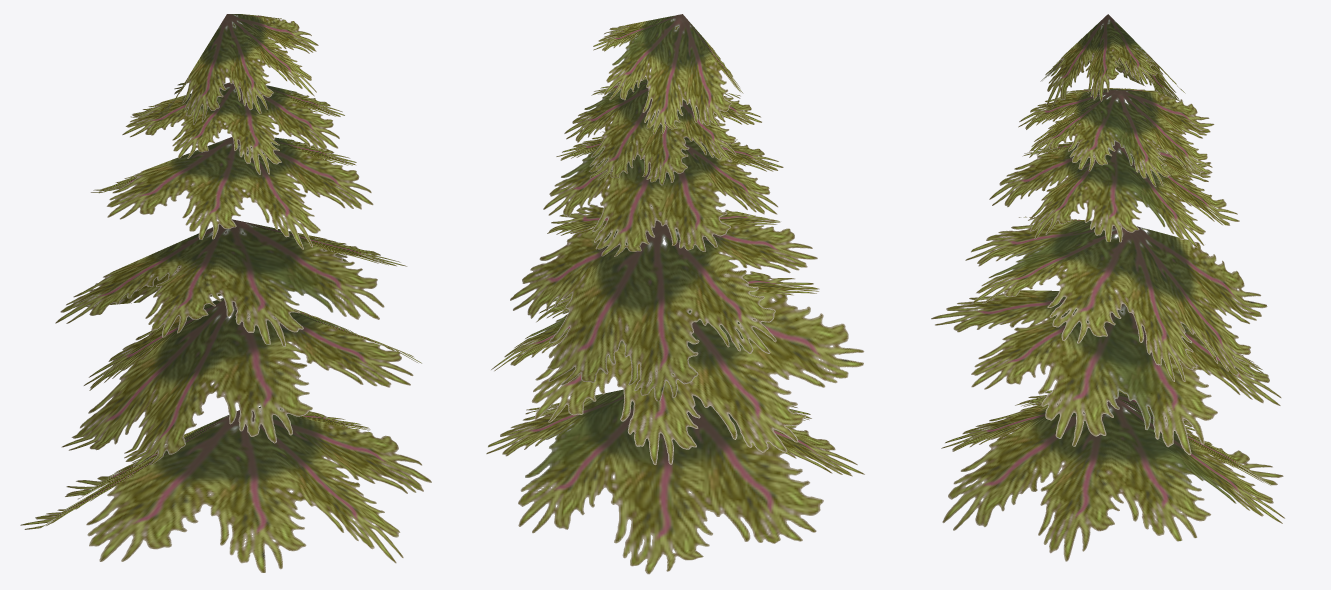
The model's file is Tree_001.fbx.
The picture shows the model from 3 angles, left to right: view 1: azimuth 30°, elevation 25°; view 2: azimuth 150°, elevation 25°; view 3: azimuth 270°, elevation 25°; orthographic projection. The views are drawn at different scales.
Visible parts, largest first — view 1: Plane589; view 2: Plane589; view 3: Plane589.
Part boxes in pixels (left/top/right/bottom): Plane589: left=20, top=14, right=431, bottom=572; Plane589: left=486, top=14, right=864, bottom=574; Plane589: left=931, top=14, right=1285, bottom=561.
Bounding box in the file's own units: 361 × 437 × 325.
